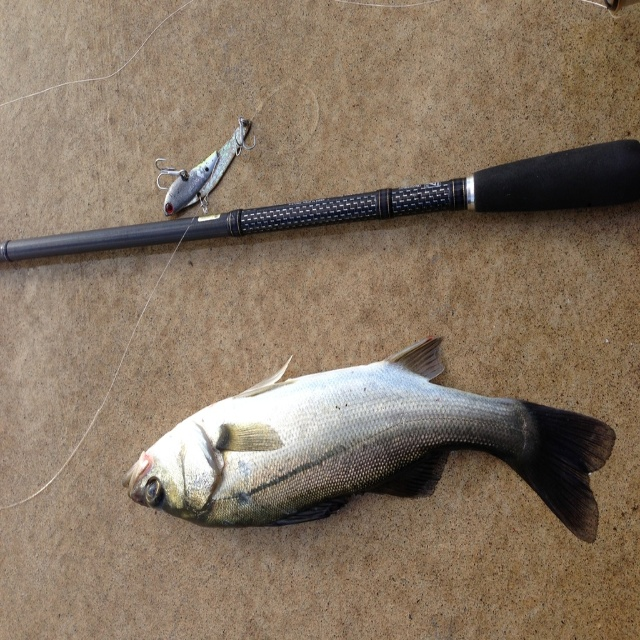Fish: (120, 341, 618, 549), (160, 121, 245, 209)
